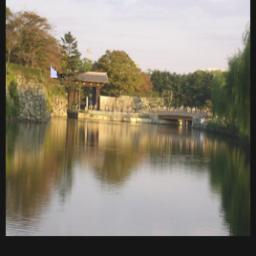Crow: (51, 10, 74, 78)
